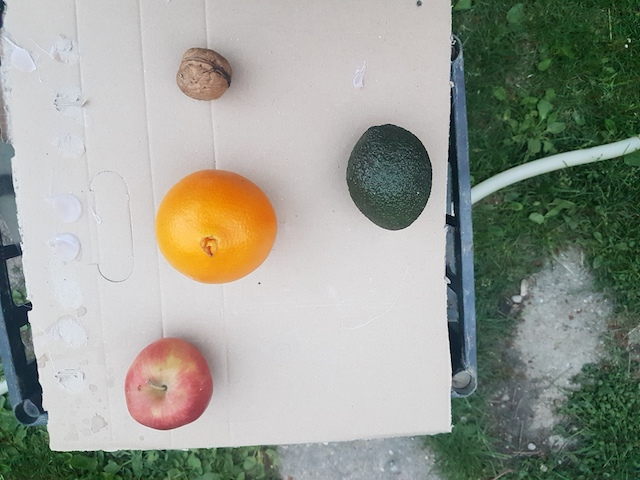apple: (121, 333, 212, 433)
avocado: (345, 122, 432, 233)
nut: (177, 44, 235, 104)
orange: (152, 169, 277, 287)
